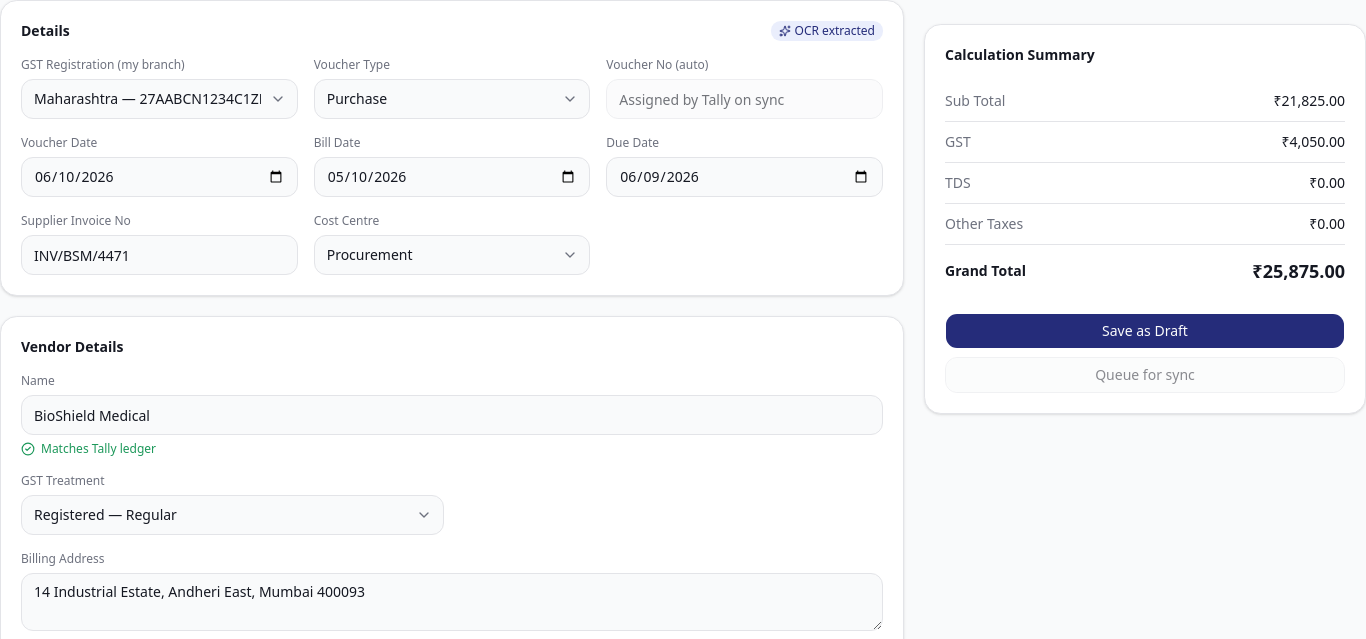
CreateBillForm vendor ledger lookup (§3.8) › does not offer a Mailing Name input, which the backend derives itself
The width and height of the screenshot is (1366, 639).
Replace the text in the field labelled "Name" with "Brand New Vendor" at (452, 415), box top-left (21, 395), bottom-right (883, 435)
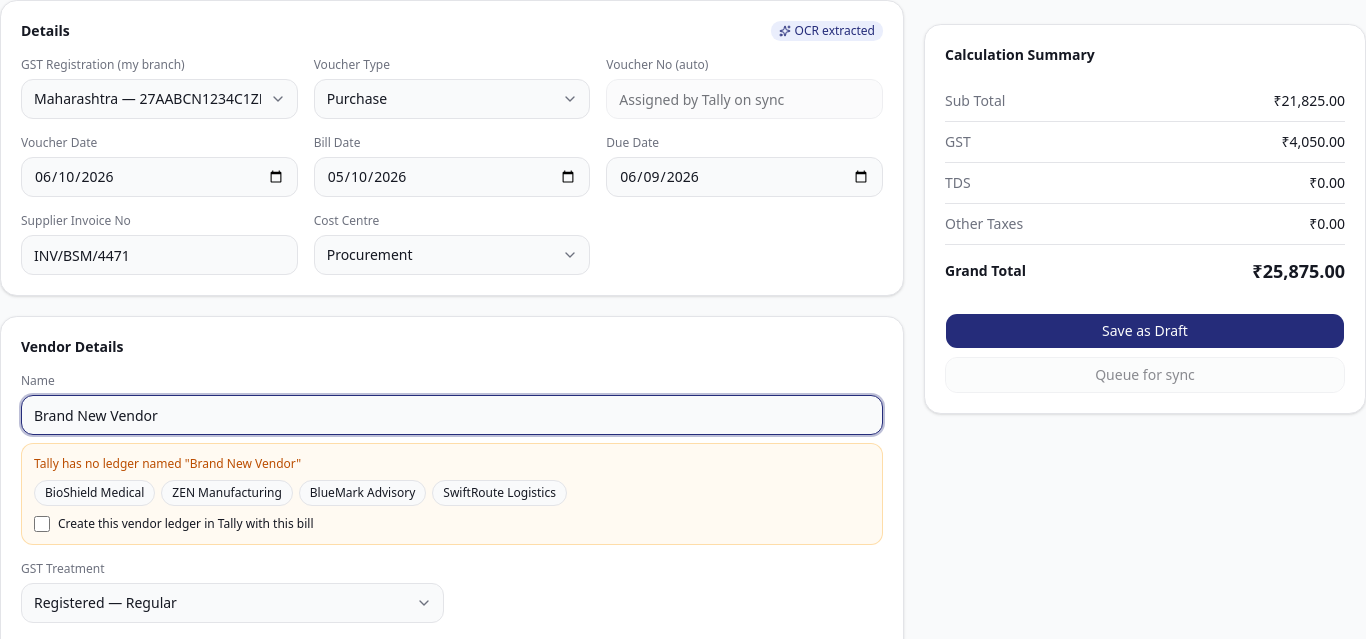
Click the checkbox labelled "Create this vendor ledger in Tally with this bill" at (42, 524), box top-left (34, 516), bottom-right (50, 532)
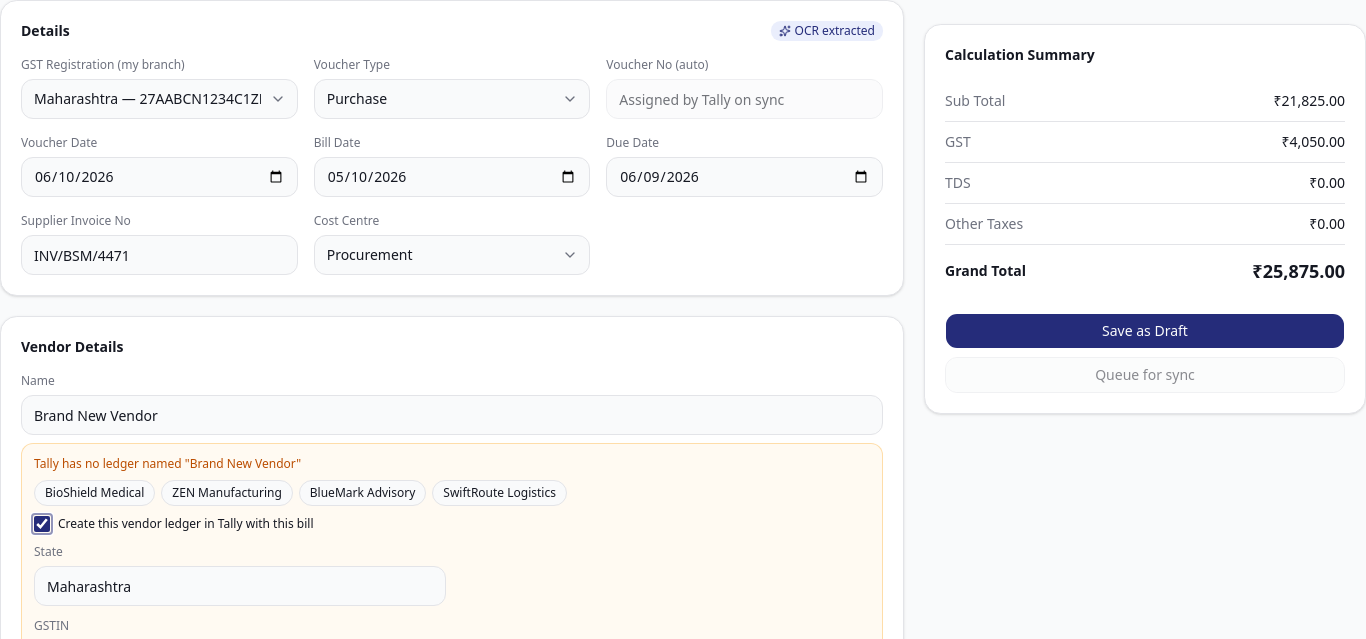
Result: the field labelled "State" is shown at top-left (34, 566), bottom-right (446, 606)
